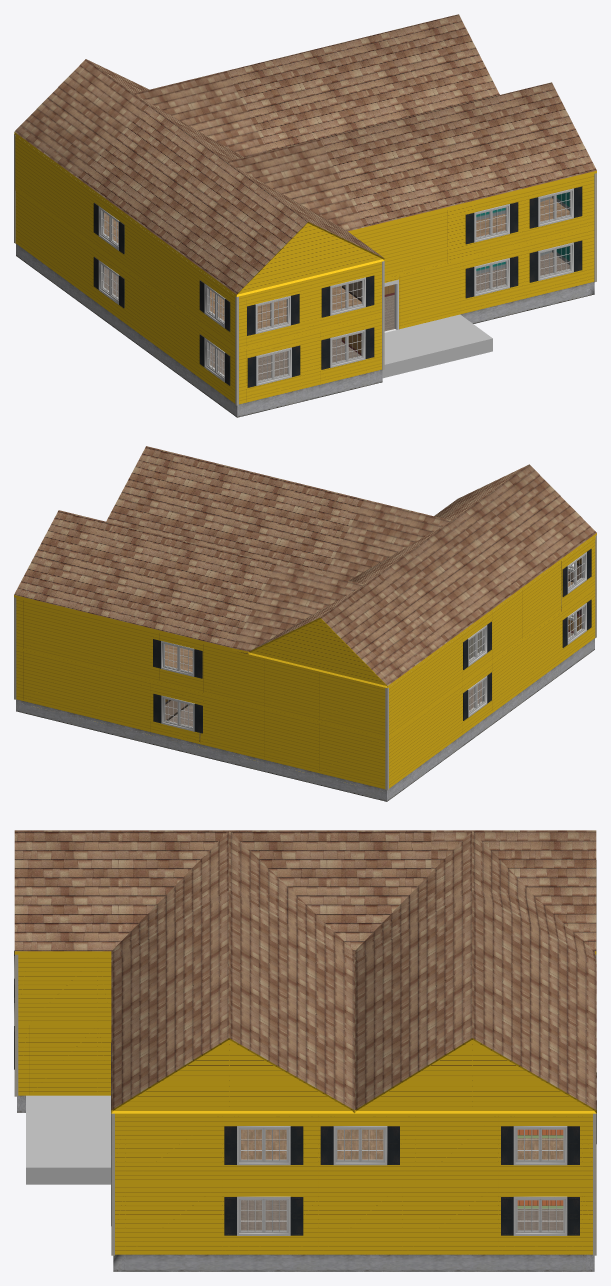
The model's file is HOUSE.fbx.
3 renders of one model, top to bottom at view 1: azimuth 30°, elevation 25°; view 2: azimuth 150°, elevation 25°; view 3: azimuth 270°, elevation 25°, orthographic. The views are drawn at different scales.
Visible parts, largest first — view 1: polySurface1228, In_WallDown_3x__2_87, Porch_Floor_3x2__25_, polySurface457, polySurface458, polySurface347, polySurface345, polySurface1230, polySurface1229, polySurface341; view 2: polySurface1228, In_WallDown_3x__2_87, polySurface427, polySurface477, polySurface341, polySurface458, polySurface457; view 3: polySurface1228, In_WallDown_3x__2_87, Porch_Floor_3x2__25_, polySurface458, polySurface299, polySurface457, In_WallDown_Corner_In1.
Boxes of the visible parts, x1,y1,x2,y2 form: polySurface1228: (14,14,596,296); In_WallDown_3x__2_87: (14,134,596,417); Porch_Floor_3x2__25_: (382,314,492,378); polySurface457: (104,252,569,380); polySurface458: (104,213,505,328); polySurface347: (465,256,518,298); polySurface345: (529,240,582,282); polySurface1230: (321,275,374,317); polySurface1229: (247,294,299,335); polySurface341: (199,334,230,385); polySurface1228: (14,446,596,688); In_WallDown_3x__2_87: (14,535,596,801); polySurface427: (153,693,202,733); polySurface477: (153,639,202,678); polySurface341: (562,599,591,647); polySurface458: (165,581,573,671); polySurface457: (168,632,573,742); polySurface1228: (14,830,596,1113); In_WallDown_3x__2_87: (14,860,596,1271); Porch_Floor_3x2__25_: (26,1095,110,1184); polySurface458: (241,1129,563,1159); polySurface299: (224,1196,303,1235); polySurface457: (241,1200,563,1230); In_WallDown_Corner_In1: (97,954,111,1024).
Size of the model in its own units: 2157 by 930 by 2094.
